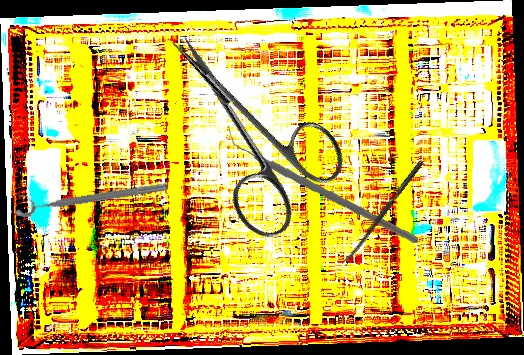Chopper: (227, 112, 419, 256)
Fixation Ring: (11, 170, 170, 219)
Iris Scissors: (126, 0, 360, 248)
Surgical Spoon: (341, 159, 424, 267)
